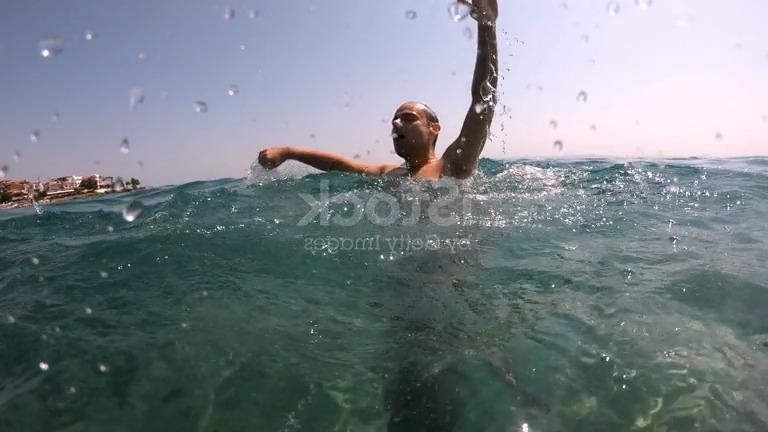Drowning: (161, 1, 617, 246)
